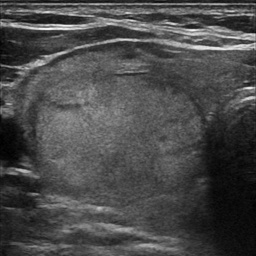mass: (32, 76, 204, 199)
